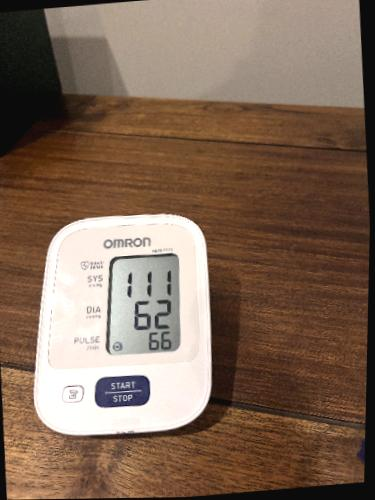bpm: (98, 252, 184, 356)
